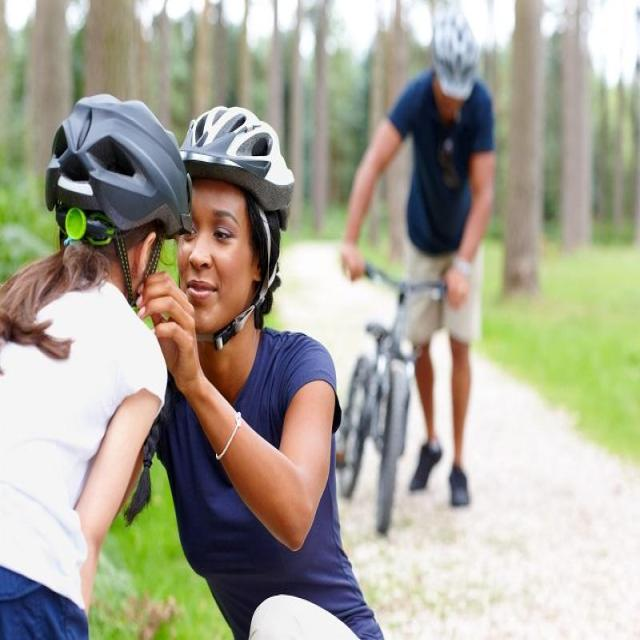Helmet: (176, 104, 294, 331), (44, 92, 190, 245), (429, 6, 479, 103)
